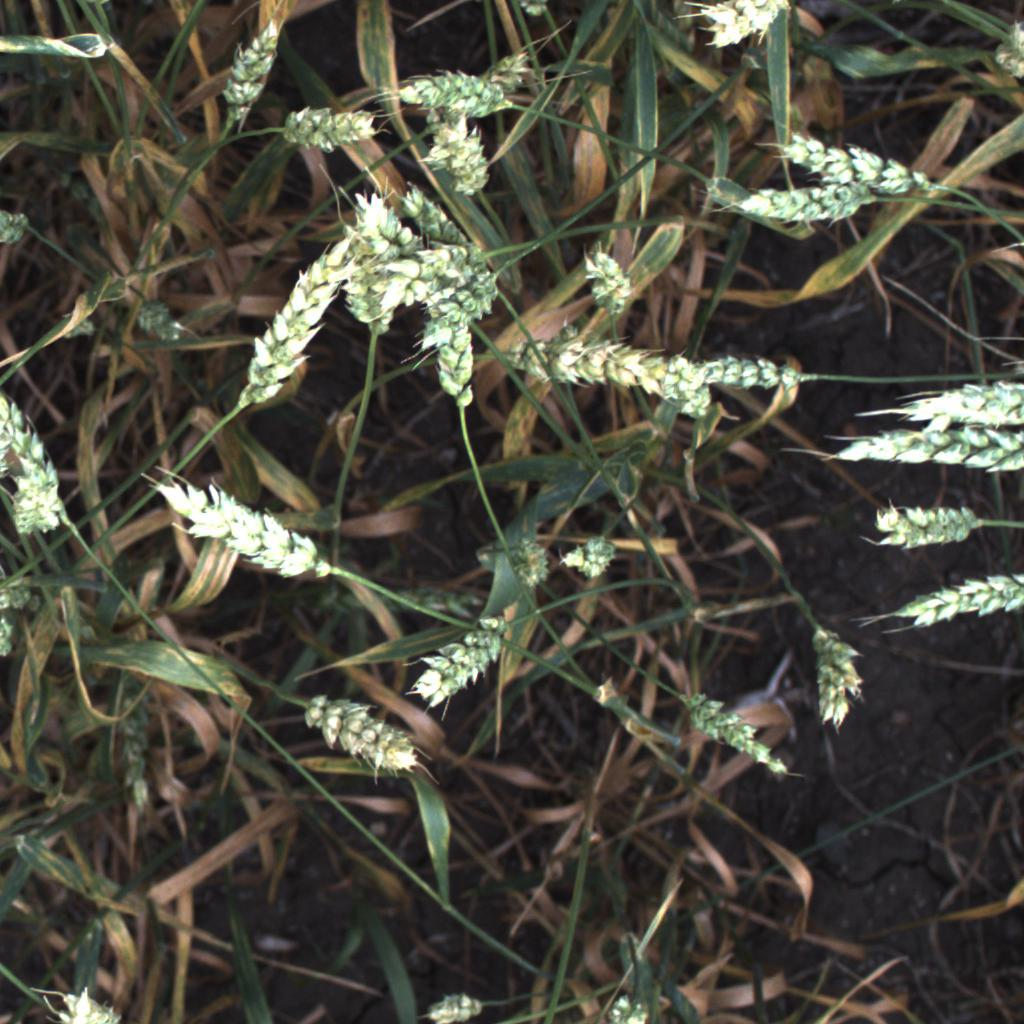0-0: (218, 229, 348, 416), (144, 461, 325, 585), (397, 589, 520, 716), (497, 323, 674, 410), (804, 410, 1024, 473), (296, 680, 429, 780), (702, 175, 912, 237), (848, 363, 1024, 436), (882, 555, 1022, 642), (680, 682, 791, 789), (848, 488, 992, 561), (798, 599, 864, 753), (766, 127, 928, 189), (381, 234, 494, 322), (388, 60, 532, 127), (206, 12, 284, 130), (405, 271, 513, 356), (678, 344, 830, 404), (339, 177, 431, 276), (269, 87, 394, 159), (568, 229, 649, 330), (334, 222, 394, 346), (673, 0, 806, 55), (12, 425, 70, 550), (421, 289, 474, 418), (644, 350, 725, 432), (392, 177, 476, 254), (427, 109, 496, 198), (496, 524, 562, 595), (33, 979, 137, 1024), (125, 291, 189, 349), (0, 378, 31, 489), (406, 987, 492, 1024), (981, 16, 1024, 89), (557, 534, 617, 581), (596, 986, 660, 1024), (0, 192, 32, 255), (0, 568, 34, 619), (821, 0, 941, 5)
